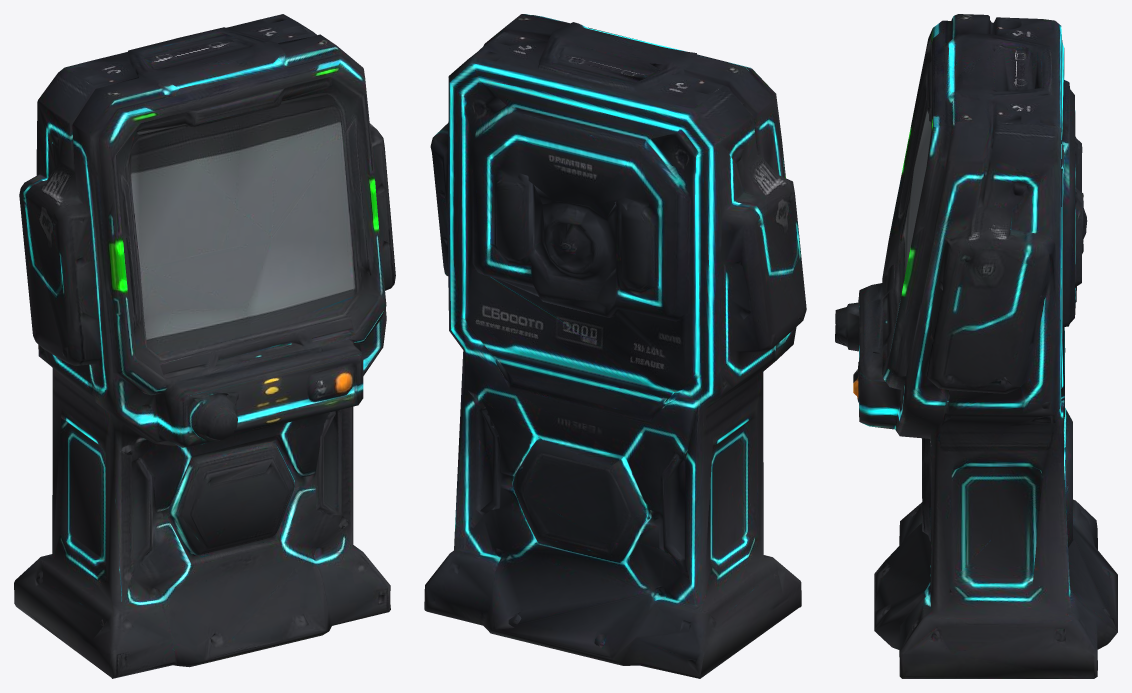
The model's file is bounty_terminal.glb.
3 views of the same model, side by side, from view 1: azimuth 30°, elevation 25°; view 2: azimuth 150°, elevation 25°; view 3: azimuth 270°, elevation 25° (orthographic).
Bounding box in the file's own units: 1.17 × 1.9 × 0.8873.
Materials: 1 (1 with a texture image).
